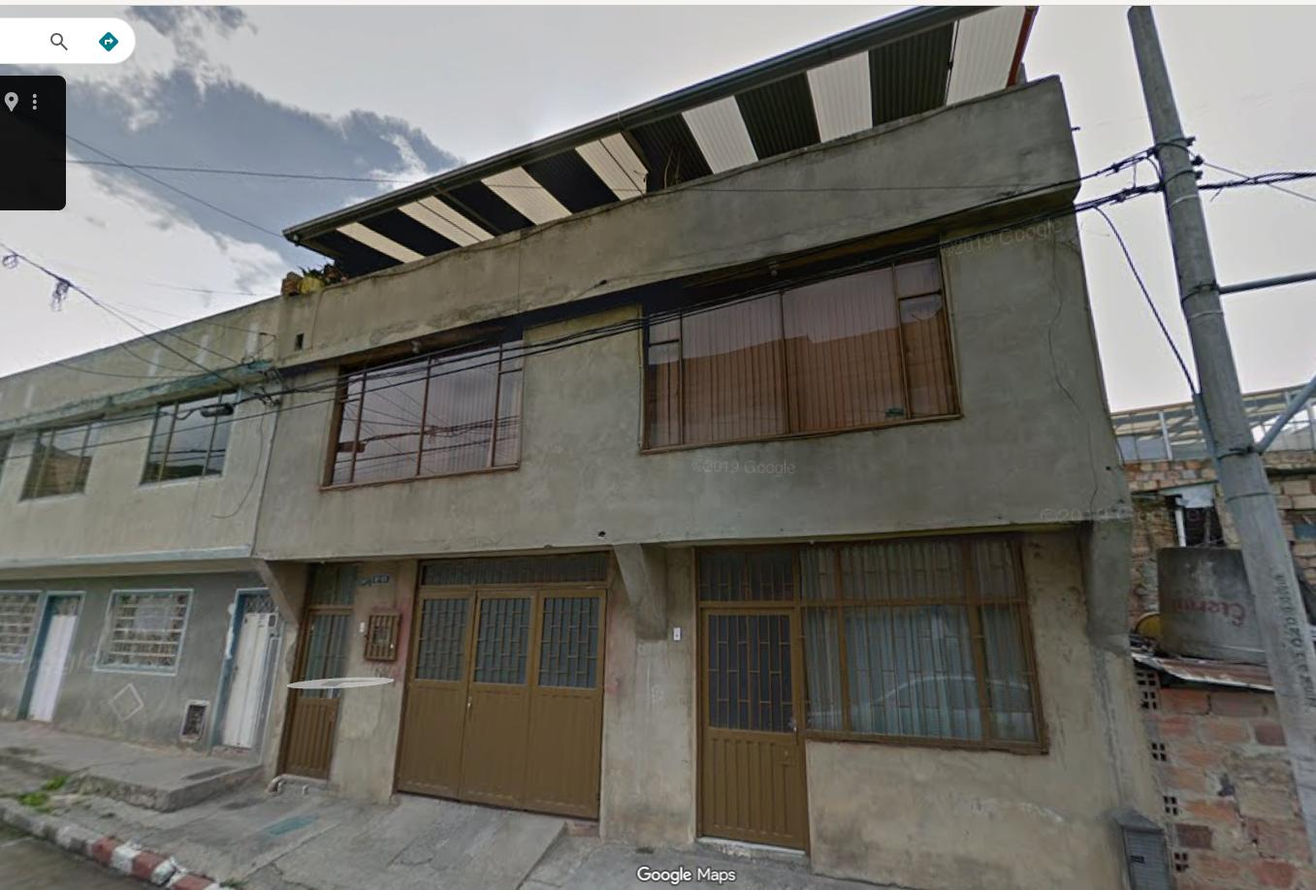casa: (255, 78, 1149, 889), (0, 299, 300, 751)
poste: (1128, 6, 1315, 858)
